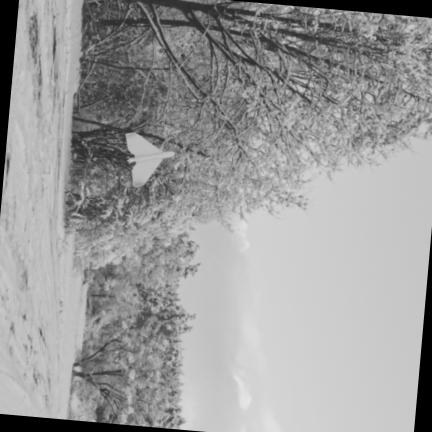Shahed: (126, 133, 173, 187)
